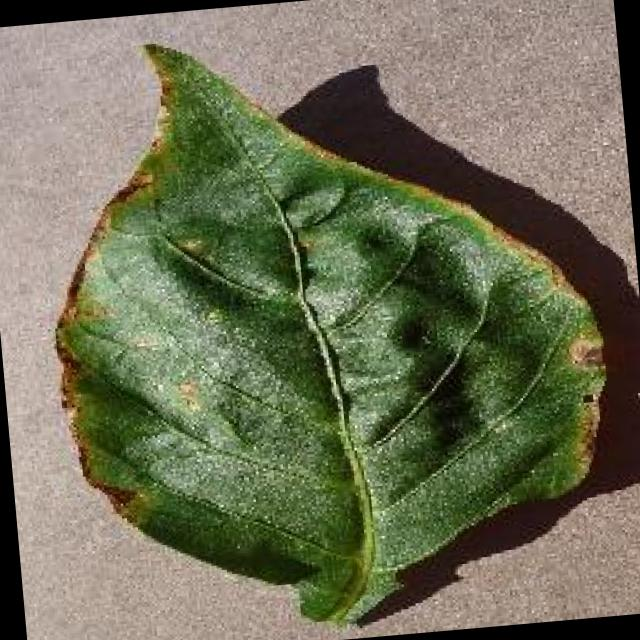Chilli_Bacterial_Spot: (22, 1, 630, 640), (164, 224, 212, 266), (560, 331, 606, 372), (169, 370, 208, 418)
